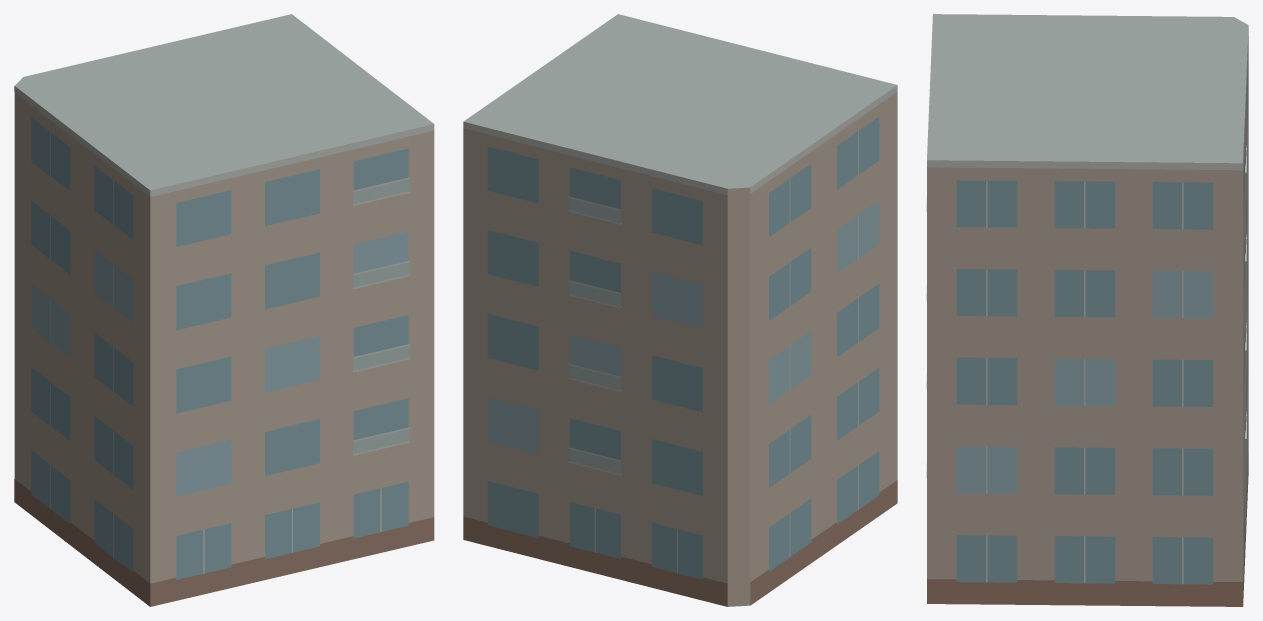
Rendered from survey-upis-32489713.glb.
3 renders of one model, left to right at view 1: azimuth 30°, elevation 25°; view 2: azimuth 150°, elevation 25°; view 3: azimuth 270°, elevation 25°, orthographic. The views are drawn at different scales.
Visible parts, largest first — view 1: survey-upis-32489713.tmp; view 2: survey-upis-32489713.tmp; view 3: survey-upis-32489713.tmp.
Part boxes in pixels (x1=…): survey-upis-32489713.tmp: x1=14, y1=14, x2=434, y2=606; survey-upis-32489713.tmp: x1=463, y1=14, x2=897, y2=606; survey-upis-32489713.tmp: x1=926, y1=14, x2=1248, y2=606.
Size of the model in its own units: 11.19 by 15.5 by 10.22.
